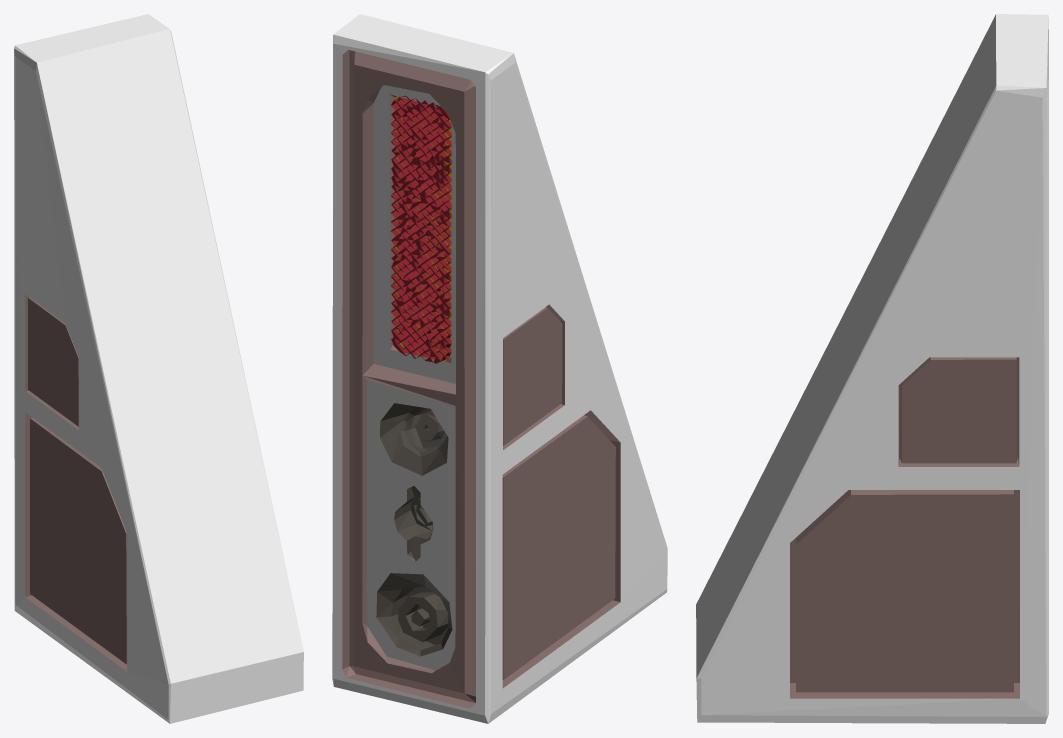
Rendered from Stereo2.fbx.
3 renders of one model, left to right at view 1: azimuth 30°, elevation 25°; view 2: azimuth 150°, elevation 25°; view 3: azimuth 270°, elevation 25°, orthographic. The views are drawn at different scales.
Visible parts, largest first — view 1: Stereo 2; view 2: Stereo 2; view 3: Stereo 2.
Boxes of the visible parts, x1,y1,x2,y2 form: Stereo 2: [14, 14, 303, 723]; Stereo 2: [332, 14, 667, 723]; Stereo 2: [696, 14, 1048, 723].
Size of the model in its own units: 100 by 398 by 199.
